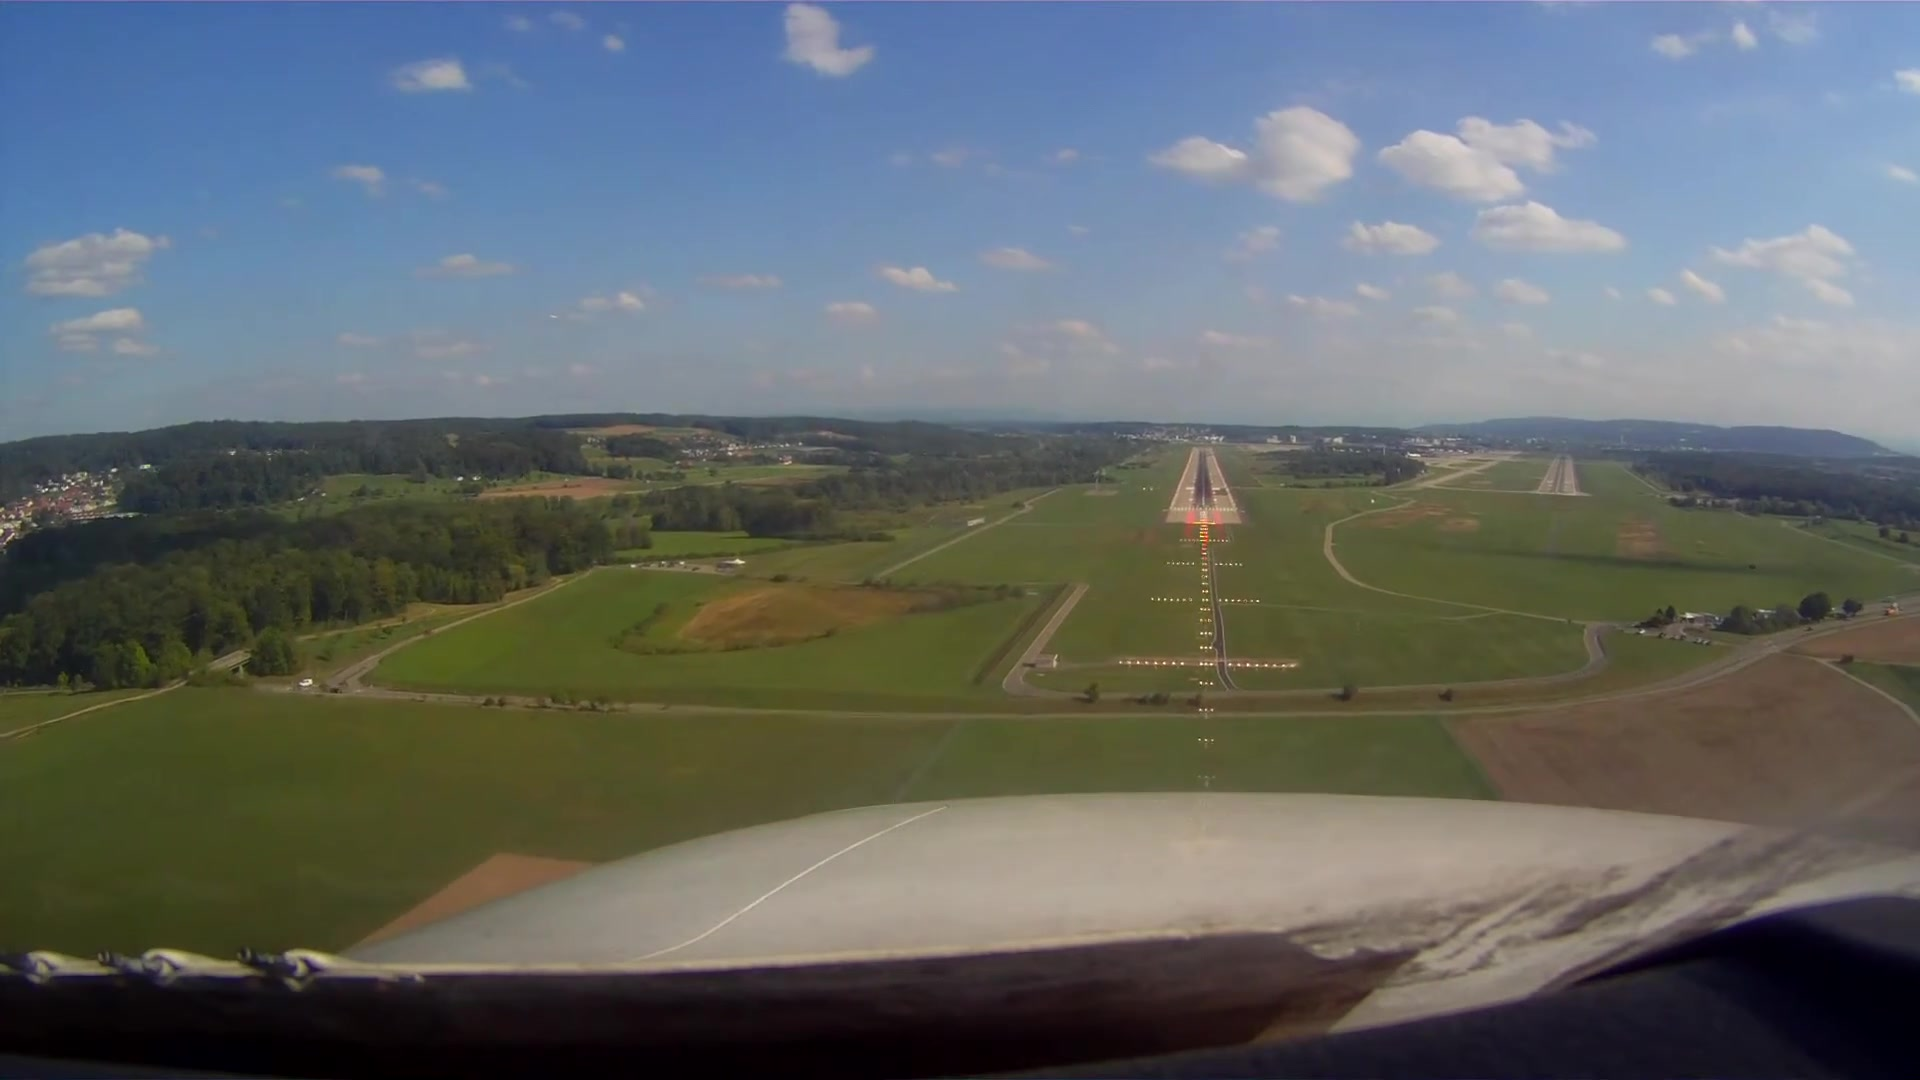entrance: (1168, 504, 1237, 513)
runway: (1164, 446, 1241, 517), (1532, 451, 1581, 497)
